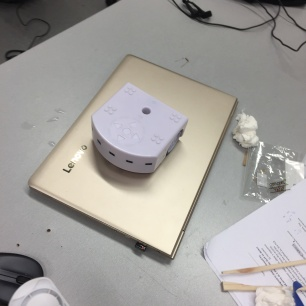thymio: (88, 80, 192, 180)
